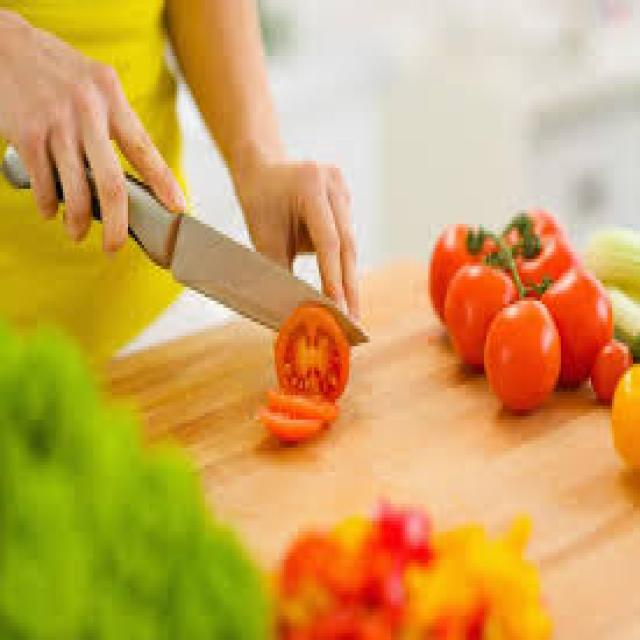Knife: (126, 175, 365, 339)
